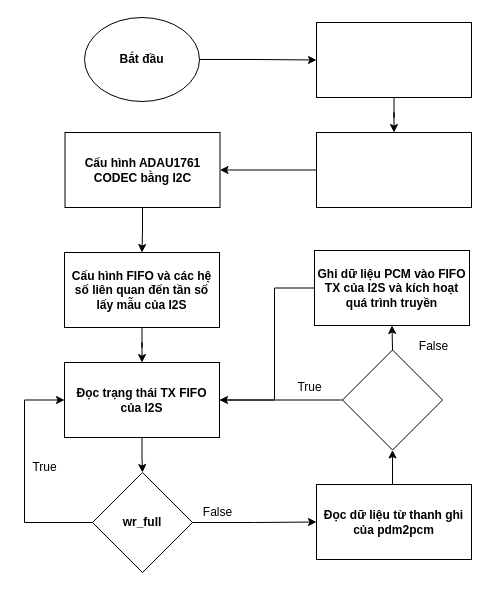
Image size: 489x590. Some labels were removed from this diagram. The box of each missing label's shape, as (x1, y1, x2, y2) in pixels:
Cấu hình khởi tạo I2C, I2S: (316, 132, 472, 208)
Khởi tạo các giá trị thanh ghi của I2S, I2C, PDM2PCM: (316, 22, 472, 98)
rd_empty: (342, 349, 442, 450)
